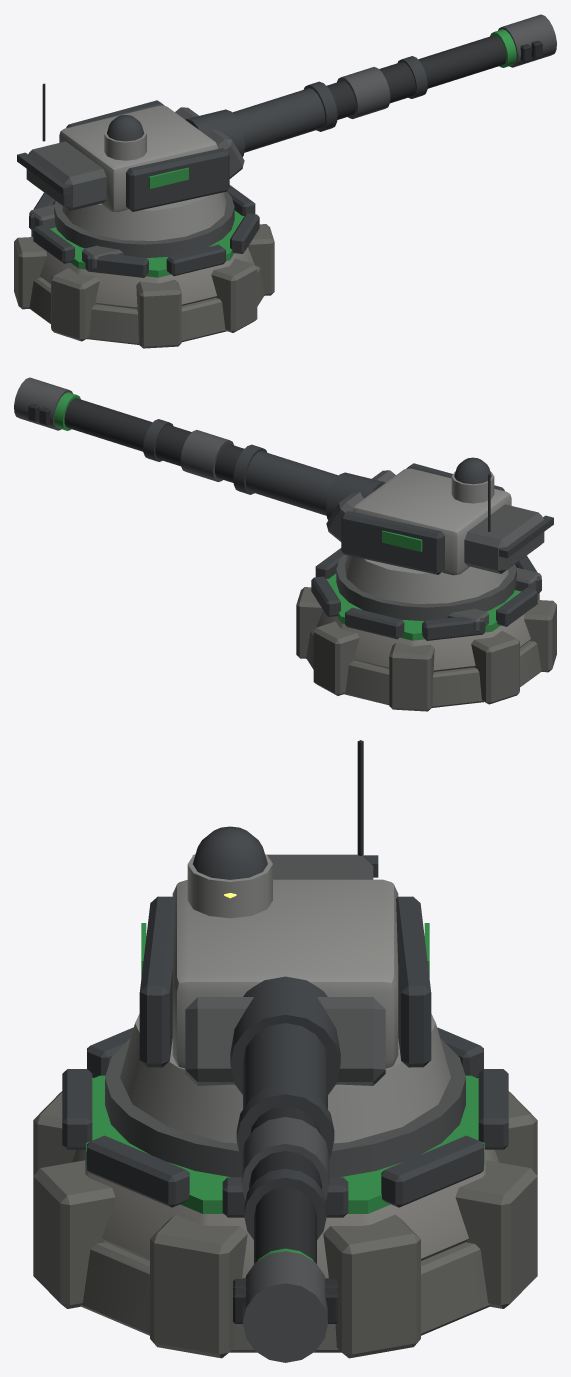
File: gcannon.glb
3 views of the same model, one above another, from view 1: azimuth 30°, elevation 25°; view 2: azimuth 150°, elevation 25°; view 3: azimuth 270°, elevation 25° (orthographic). The views are drawn at different scales.
Visible parts, largest first — view 1: Gcannon_head, Gcannon_Walls, Gcannon_gun, Gcannon_Frame, Gcannon_Foundation, Gcannon_Details; view 2: Gcannon_head, Gcannon_Walls, Gcannon_gun, Gcannon_Frame, Gcannon_Foundation, Gcannon_Details; view 3: Gcannon_head, Gcannon_Walls, Gcannon_gun, Gcannon_Frame, Gcannon_Foundation, Gcannon_Details.
Part boxes in pixels (x1=…): Gcannon_head: x1=17, y1=83, x2=244, y2=257; Gcannon_Walls: x1=14, y1=224, x2=274, y2=348; Gcannon_gun: x1=232, y1=14, x2=556, y2=152; Gcannon_Frame: x1=29, y1=185, x2=259, y2=277; Gcannon_Foundation: x1=29, y1=266, x2=264, y2=344; Gcannon_Details: x1=29, y1=204, x2=244, y2=277; Gcannon_head: x1=326, y1=457, x2=553, y2=620; Gcannon_Walls: x1=296, y1=587, x2=556, y2=711; Gcannon_gun: x1=14, y1=377, x2=338, y2=515; Gcannon_Frame: x1=311, y1=548, x2=541, y2=640; Gcannon_Foundation: x1=306, y1=629, x2=541, y2=707; Gcannon_Details: x1=326, y1=567, x2=541, y2=640; Gcannon_head: x1=105, y1=740, x2=465, y2=1177; Gcannon_Walls: x1=33, y1=1091, x2=537, y2=1358; Gcannon_gun: x1=233, y1=1023, x2=337, y2=1362; Gcannon_Frame: x1=62, y1=1027, x2=508, y2=1217; Gcannon_Foundation: x1=80, y1=1242, x2=490, y2=1352; Gcannon_Details: x1=86, y1=1075, x2=484, y2=1213.
Size of the model in its own units: 4.72 by 1.91 by 2.01.
